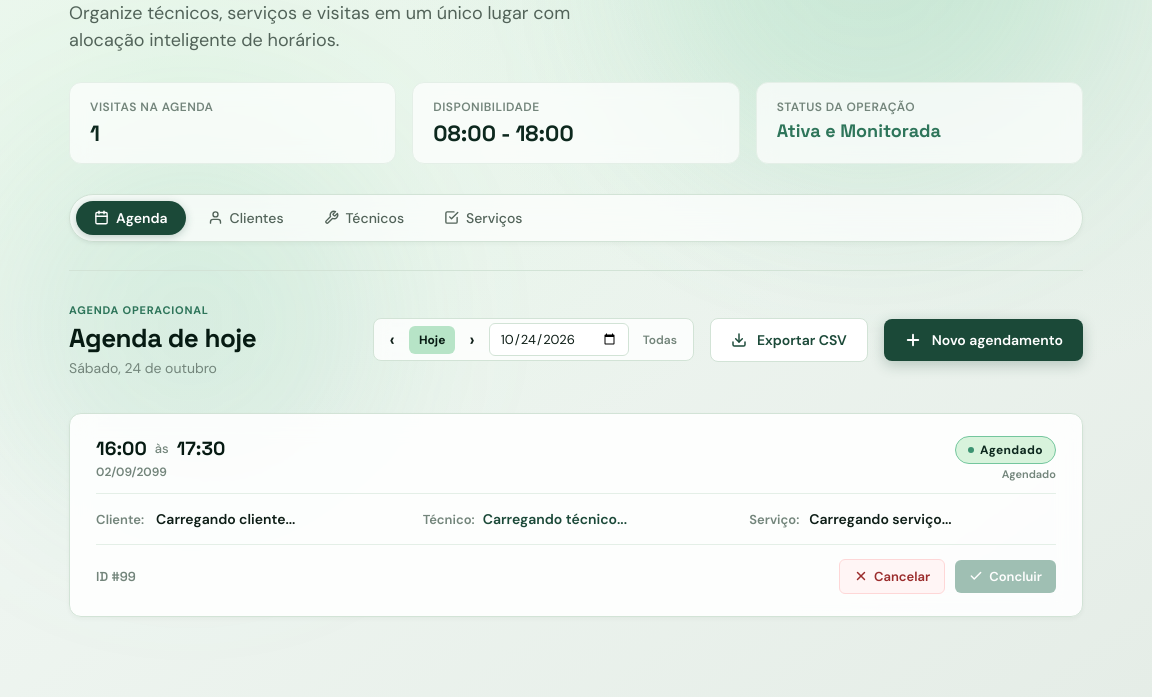
Test: FixTime shell & operational agenda › cancels an appointment and updates status locally without full reload
The image size is (1152, 697).
(page scrolled)
Expected: the text "ID #99" is shown, [96,568,136,585]
Step 1. Click the button with aria-label "Cancelar agendamento #99" → (892, 576), box [839,559,945,594]
(page scrolled)
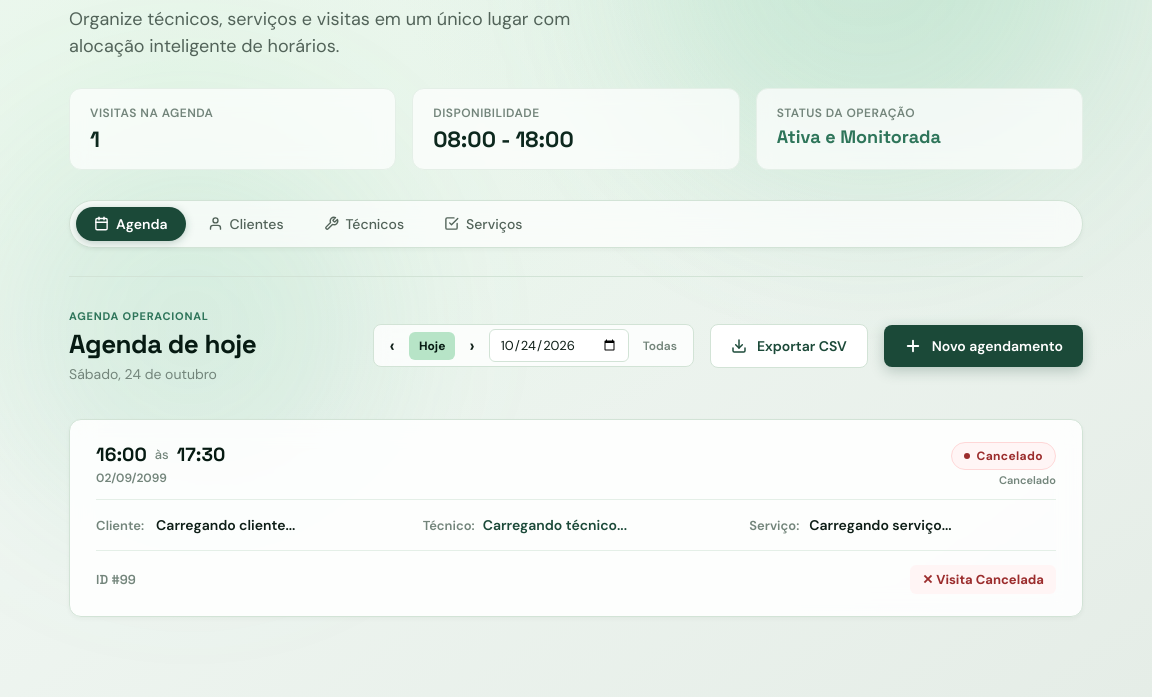
Expected: the text "✕ Visita Cancelada" is shown, [910,565,1056,594]
Expected: the text "Cancelado" is shown, [951,442,1056,470]
